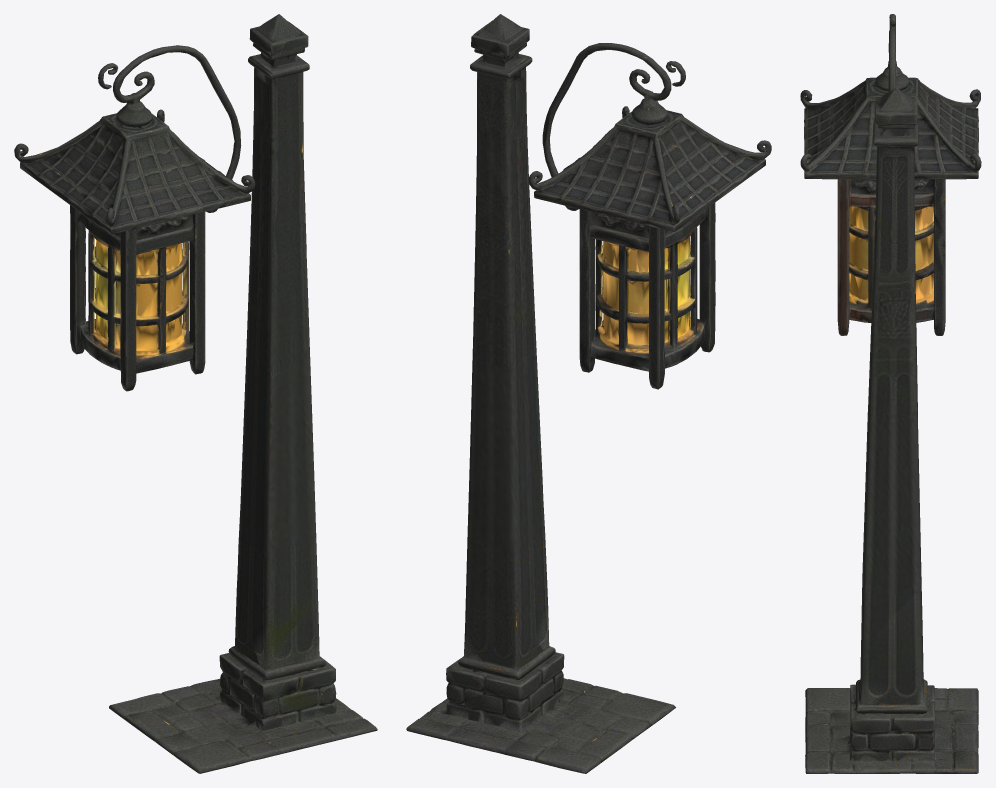
The model's file is lantern.glb.
The picture shows the model from 3 angles, left to right: view 1: azimuth 30°, elevation 25°; view 2: azimuth 150°, elevation 25°; view 3: azimuth 270°, elevation 25°; orthographic projection. The views are drawn at different scales.
Size of the model in its own units: 0.7828 by 1.9 by 0.4715.
1 material, 1 textured.
